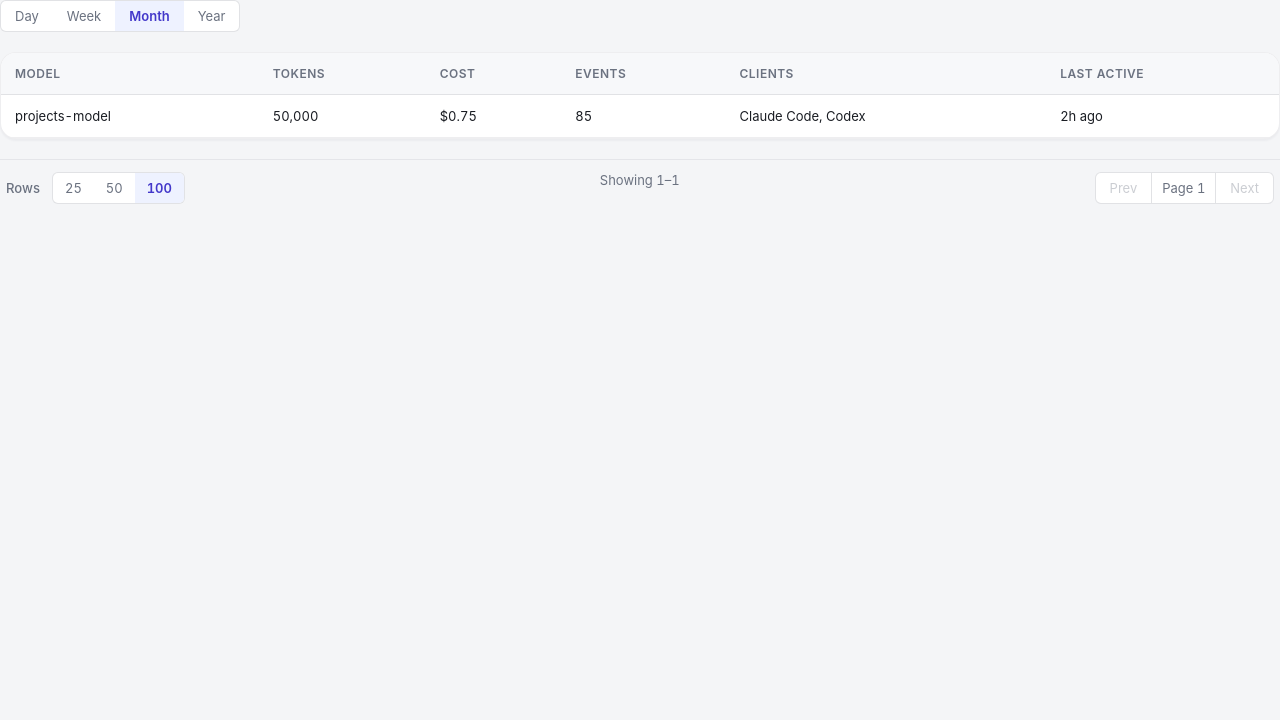
it: ModelsPage › displays project mix in detail drawer
What coordinates should you click on to do the following:
click the text "projects-model"
I would click on:
 (130, 116)
Its box is [1,94,259,138].
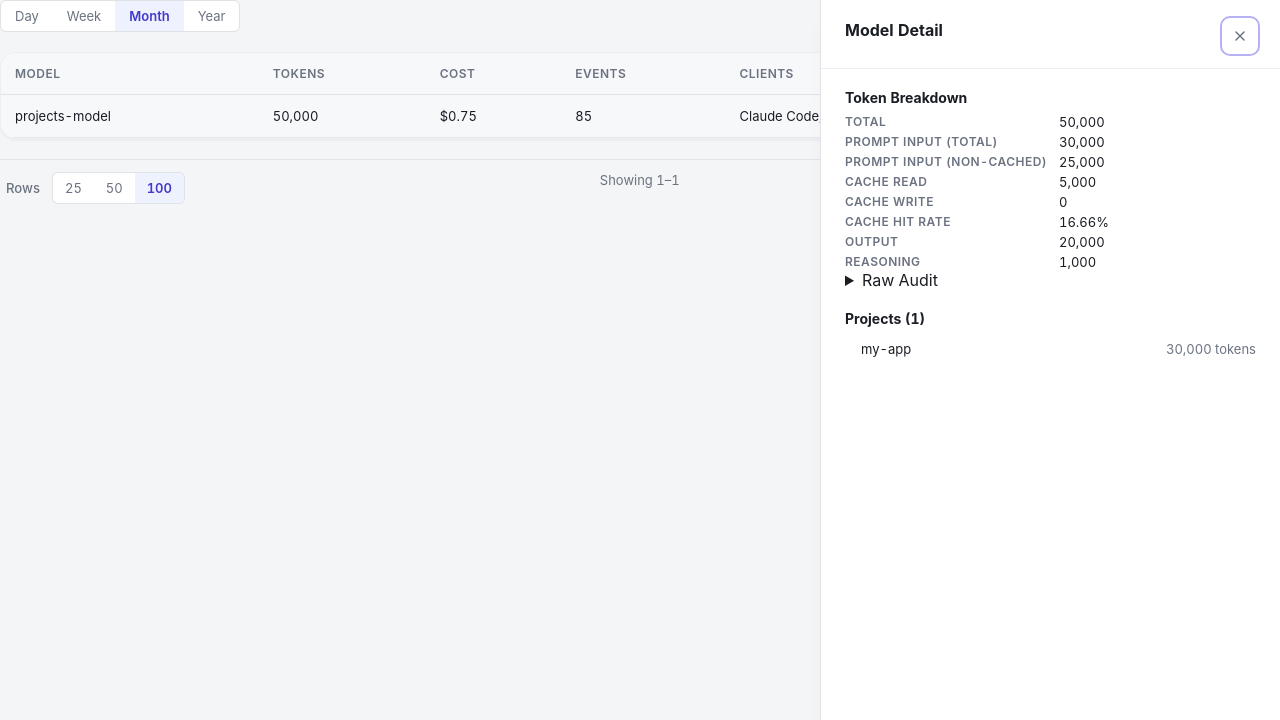
Expected: the heading "Projects (1)" is shown, [845,310,925,327]
Expected: the text "my-app" is shown, [861,341,911,357]
